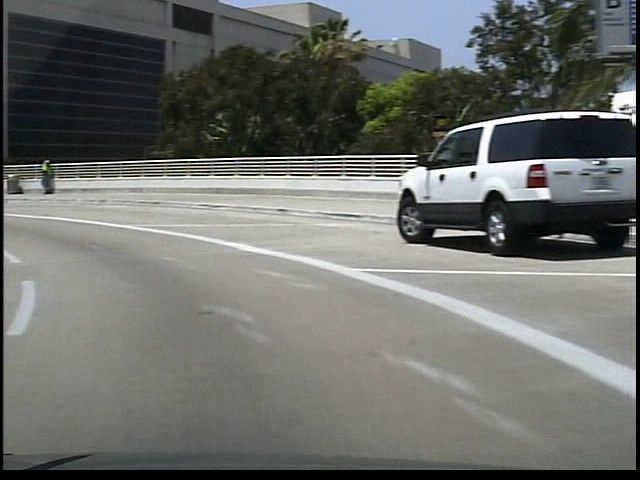person: (35, 154, 53, 197)
